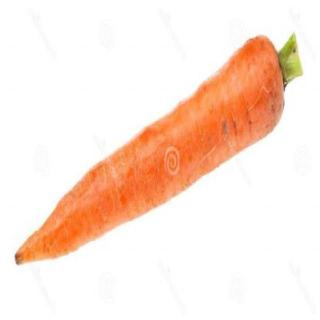carrot: (9, 19, 310, 283)
